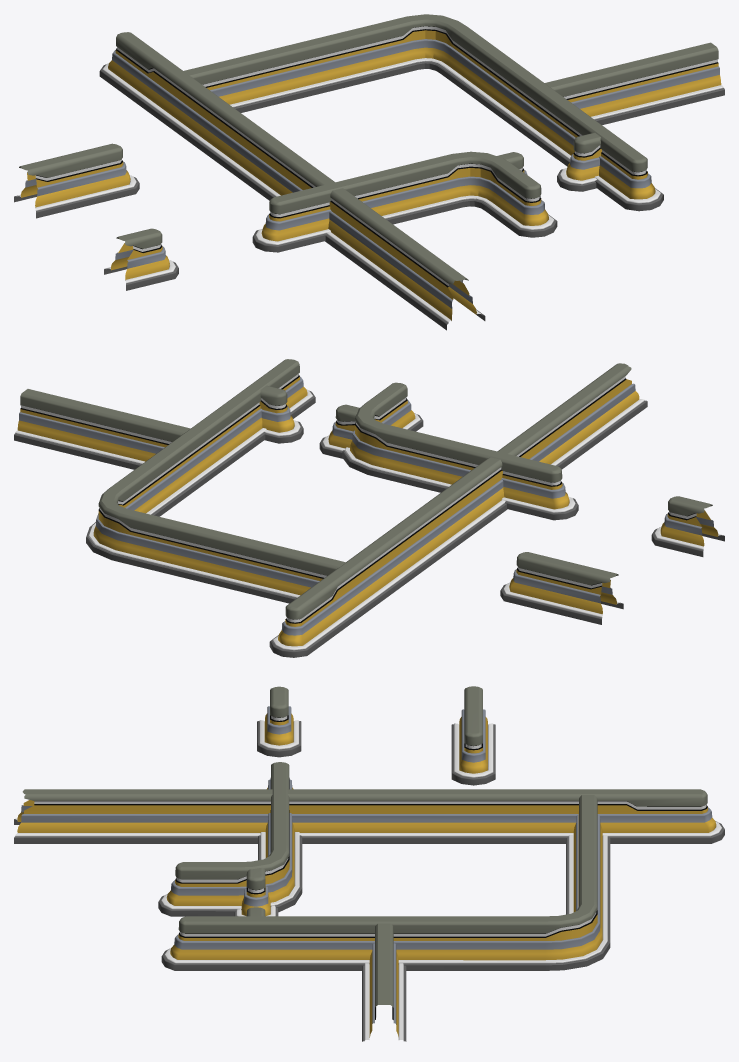
Rendered from Small walls.fbx.
3 renders of one model, top to bottom at view 1: azimuth 30°, elevation 25°; view 2: azimuth 150°, elevation 25°; view 3: azimuth 270°, elevation 25°, orthographic. The views are drawn at different scales.
Parts seen in each view (by area): view 1: Small_wall_L52, Small_wallv1_20, Small_wall_L53, Small_wall_L47, Small_wallv1_23, Small_wallv1_22, Small_wallv1_25; view 2: Small_wall_L52, Small_wallv1_20, Small_wall_L53, Small_wall_L47, Small_wallv1_23, Small_wallv1_22, Small_wallv1_25, Small_wallv1_24; view 3: Small_wallv1_20, Small_wall_L52, Small_wall_L53, Small_wall_L47, Small_wallv1_23, Small_wallv1_22, Small_wallv1_24.
Part boxes in pixels (x1,y1,x2,y2): Small_wall_L52: (183,14,663,211); Small_wallv1_20: (99,32,485,330); Small_wall_L53: (252,151,557,252); Small_wall_L47: (544,42,724,125); Small_wallv1_23: (14,143,139,218); Small_wallv1_22: (104,228,178,290); Small_wallv1_25: (557,132,601,191); Small_wall_L52: (86,359,345,603); Small_wallv1_20: (269,363,647,657); Small_wall_L53: (342,382,578,520); Small_wall_L47: (14,389,190,469); Small_wallv1_23: (500,552,623,624); Small_wallv1_22: (651,496,724,556); Small_wallv1_25: (259,385,303,443); Small_wallv1_24: (319,404,359,458); Small_wallv1_20: (14,789,724,843); Small_wall_L52: (161,795,610,970); Small_wall_L53: (158,762,302,916); Small_wall_L47: (362,923,406,1041); Small_wallv1_23: (451,686,495,785); Small_wallv1_22: (257,686,301,757); Small_wallv1_24: (234,867,278,916).
Size of the model in its own units: 587 by 38.68 by 553.
